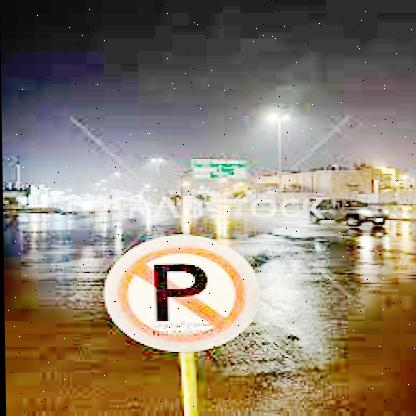No parking: (109, 242, 258, 341)
